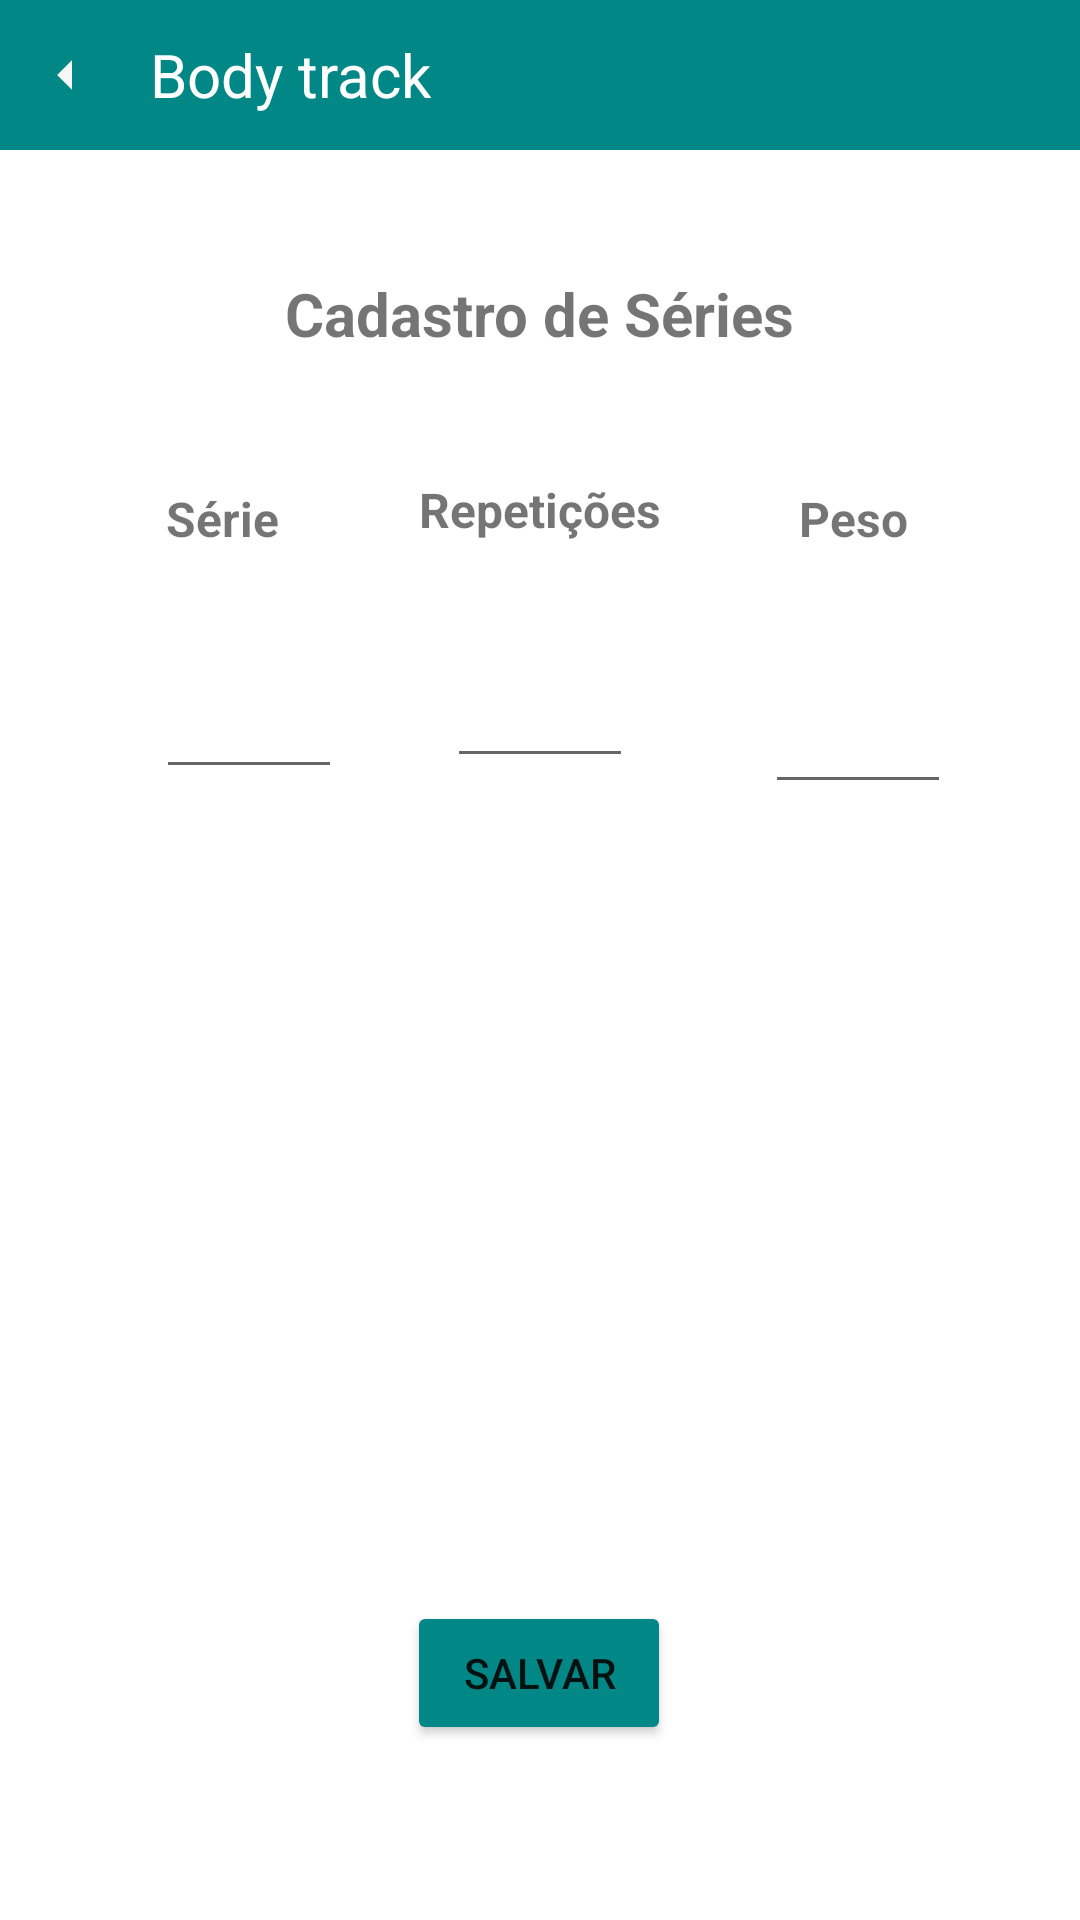

Locate icon controls on the screen. Image size 1080w x 1920h, boxes as box(x1, y1, x2, y2).
arrow left: box(57, 60, 72, 90)
